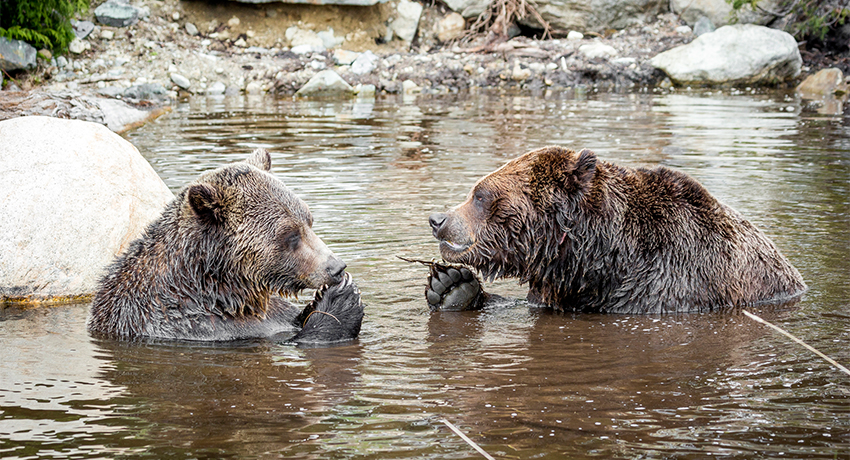bear: (185, 144, 353, 292), (425, 143, 601, 262)
